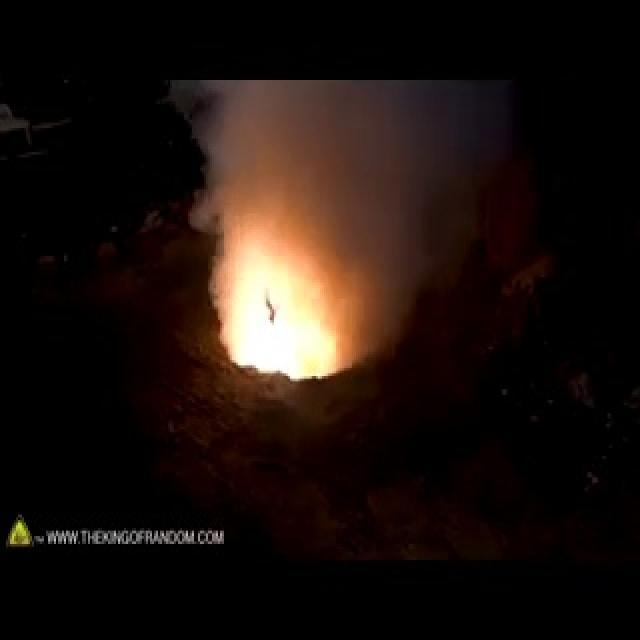fire: (202, 149, 412, 451)
